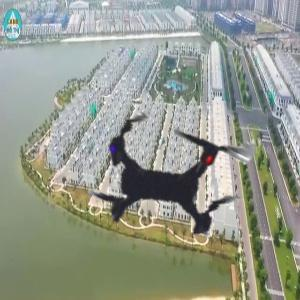drone: (43, 47, 297, 300)
